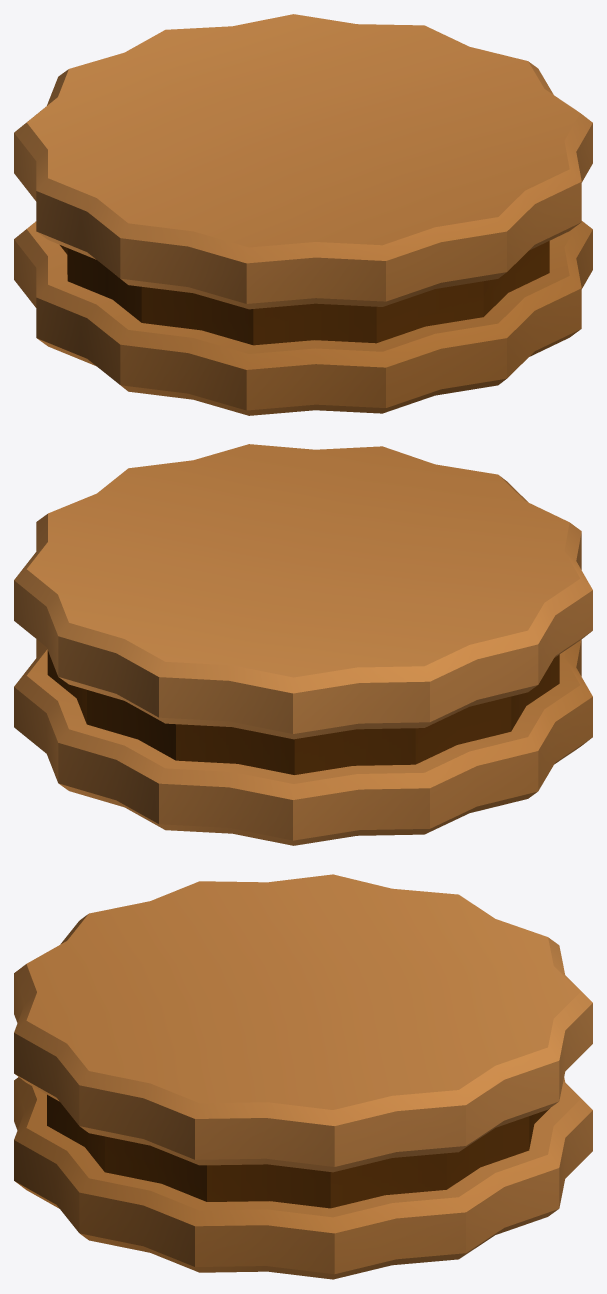
Rendered from Biscuit_3.fbx.
3 renders of one model, top to bottom at view 1: azimuth 30°, elevation 25°; view 2: azimuth 150°, elevation 25°; view 3: azimuth 270°, elevation 25°, orthographic.
Parts seen in each view (by area): view 1: Biscuit_3; view 2: Biscuit_3; view 3: Biscuit_3.
Part boxes in pixels (x1=…): Biscuit_3: x1=14, y1=14, x2=592, y2=415; Biscuit_3: x1=14, y1=444, x2=592, y2=845; Biscuit_3: x1=14, y1=874, x2=592, y2=1279.
Size of the model in its own units: 0.0482 by 0.0154 by 0.0478.
